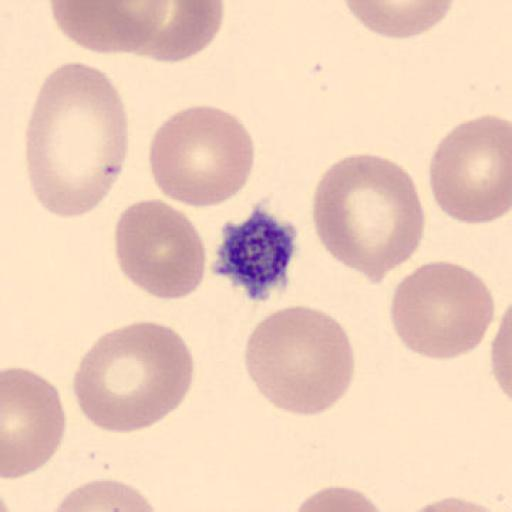Platelet: (209, 206, 299, 303)
RBC: (24, 59, 130, 219), (310, 151, 427, 285), (71, 319, 196, 434), (242, 304, 356, 418), (147, 104, 257, 210), (388, 259, 495, 362), (113, 196, 207, 302), (428, 114, 512, 226), (2, 365, 68, 481), (48, 0, 168, 55), (123, 0, 226, 63), (341, 0, 457, 41), (47, 476, 164, 512), (292, 484, 390, 512), (490, 301, 512, 407), (397, 493, 508, 512)
